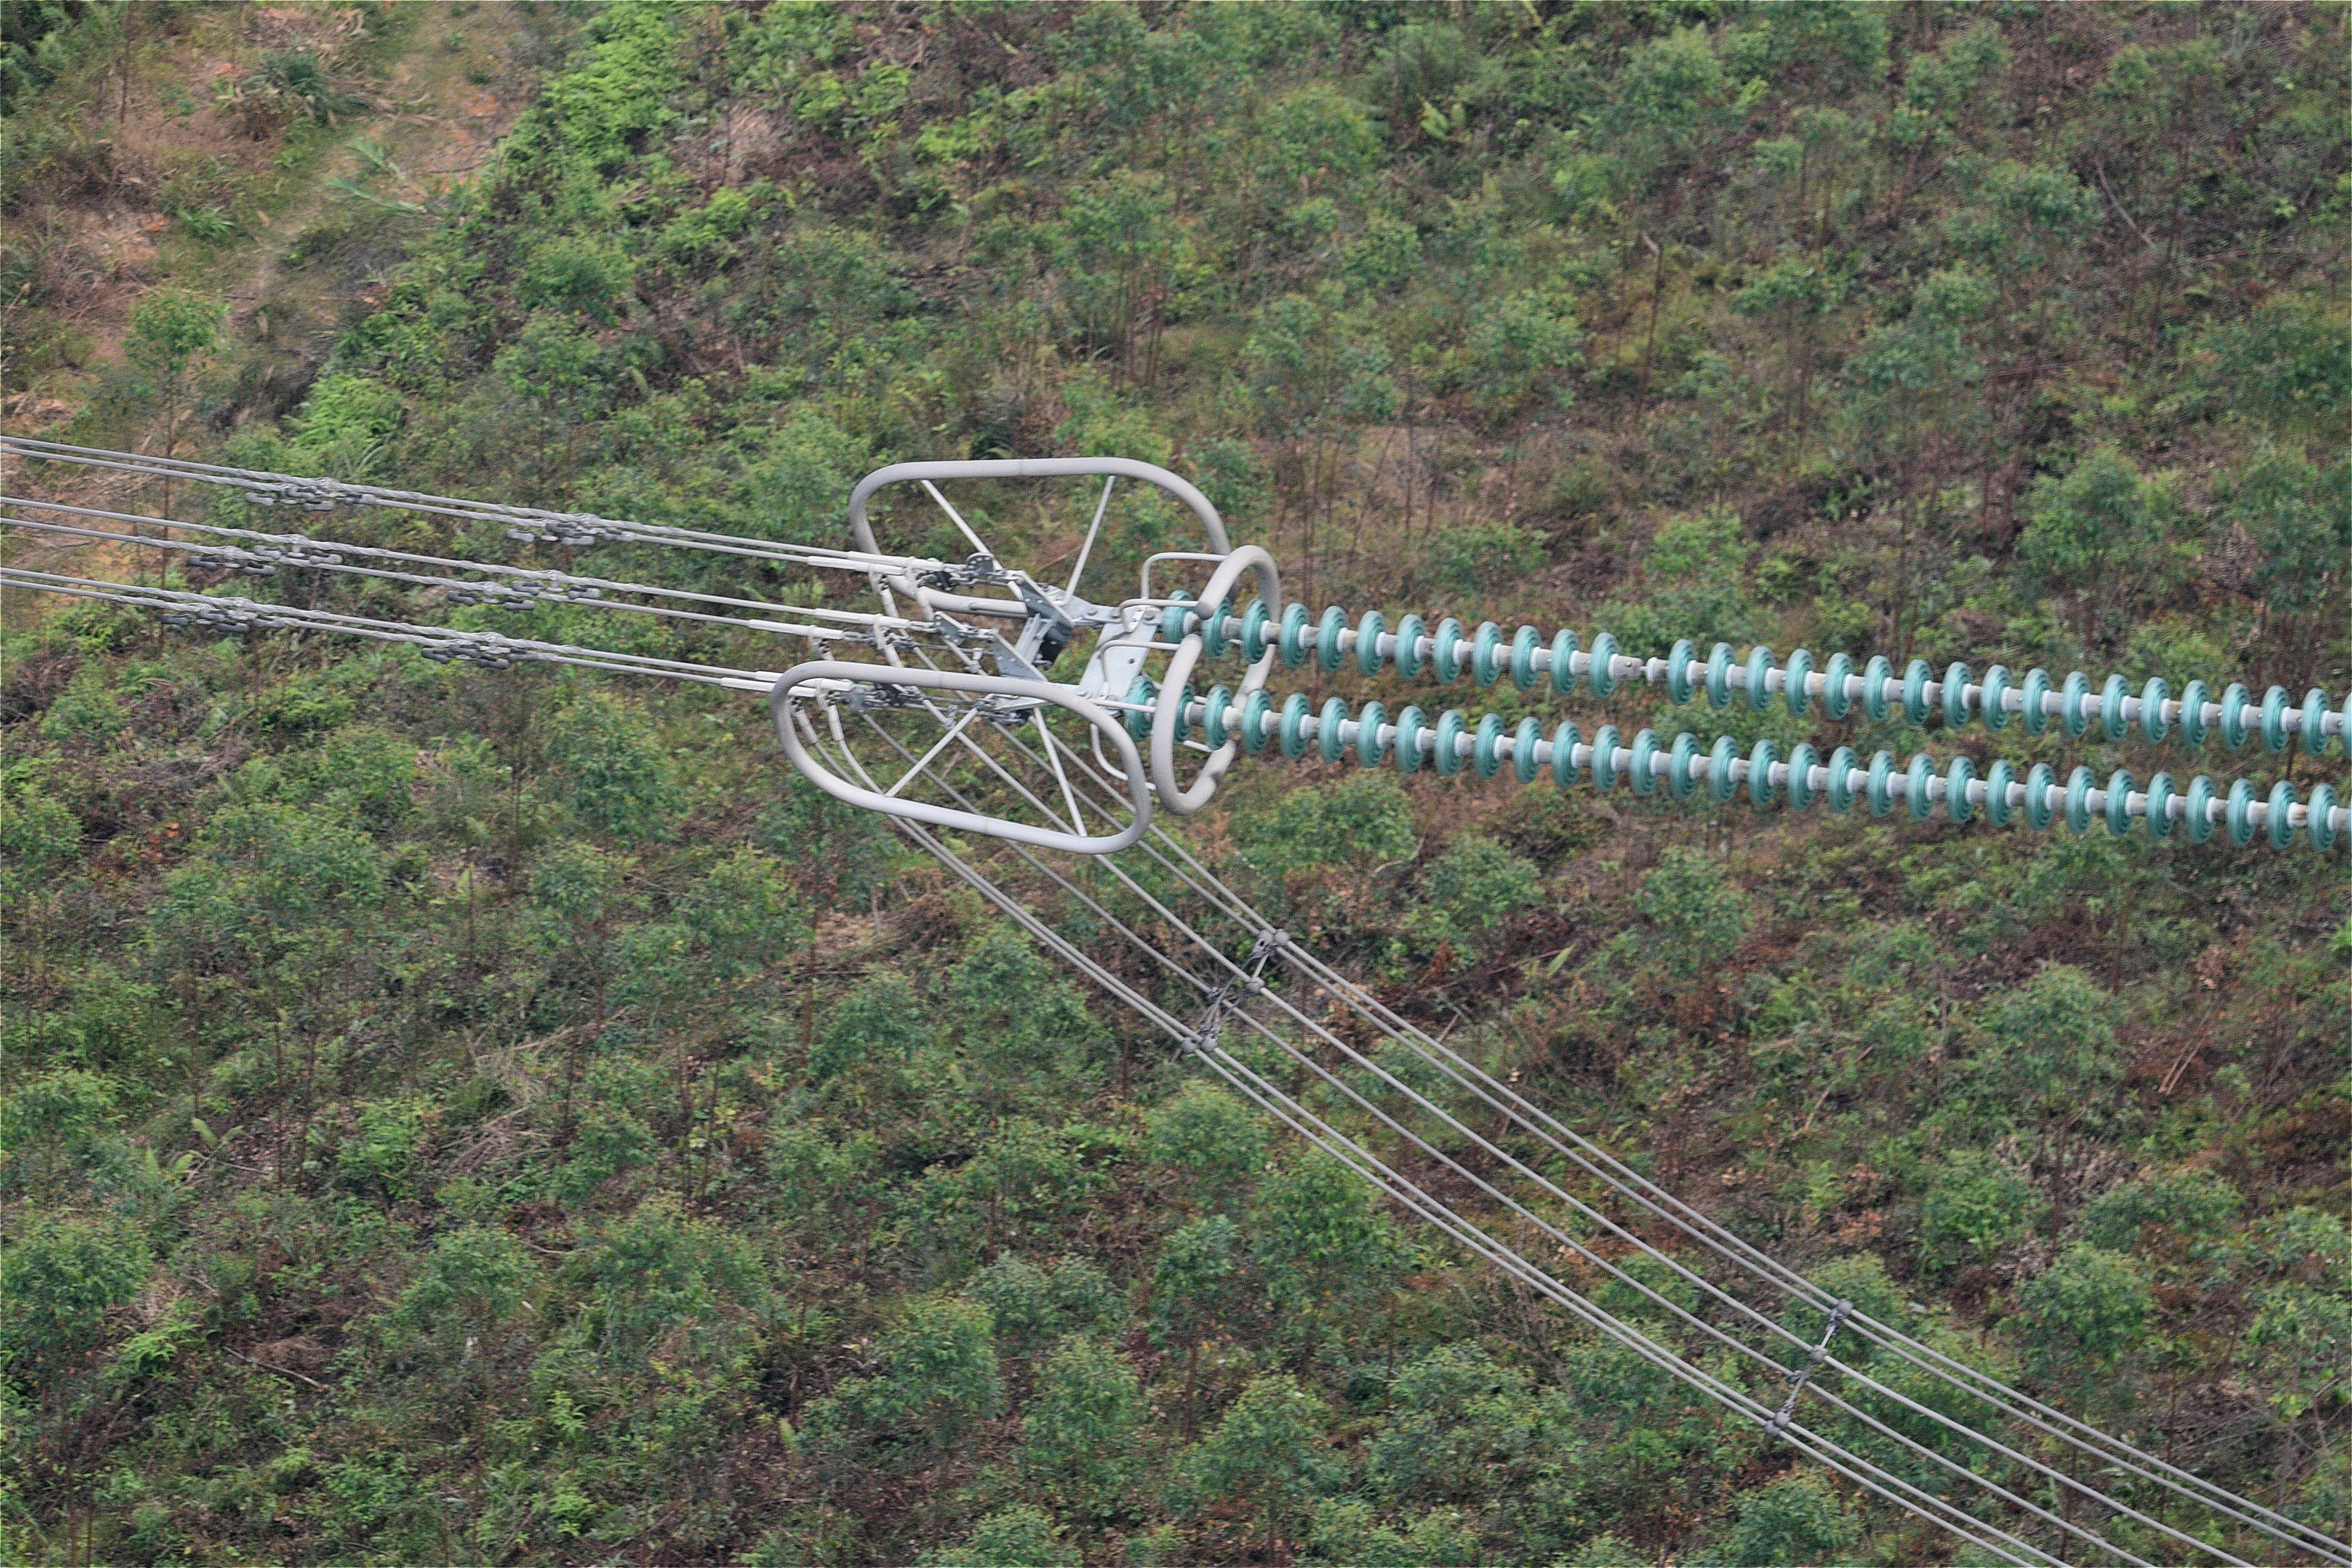insultor3: (1116, 555, 2352, 877)
